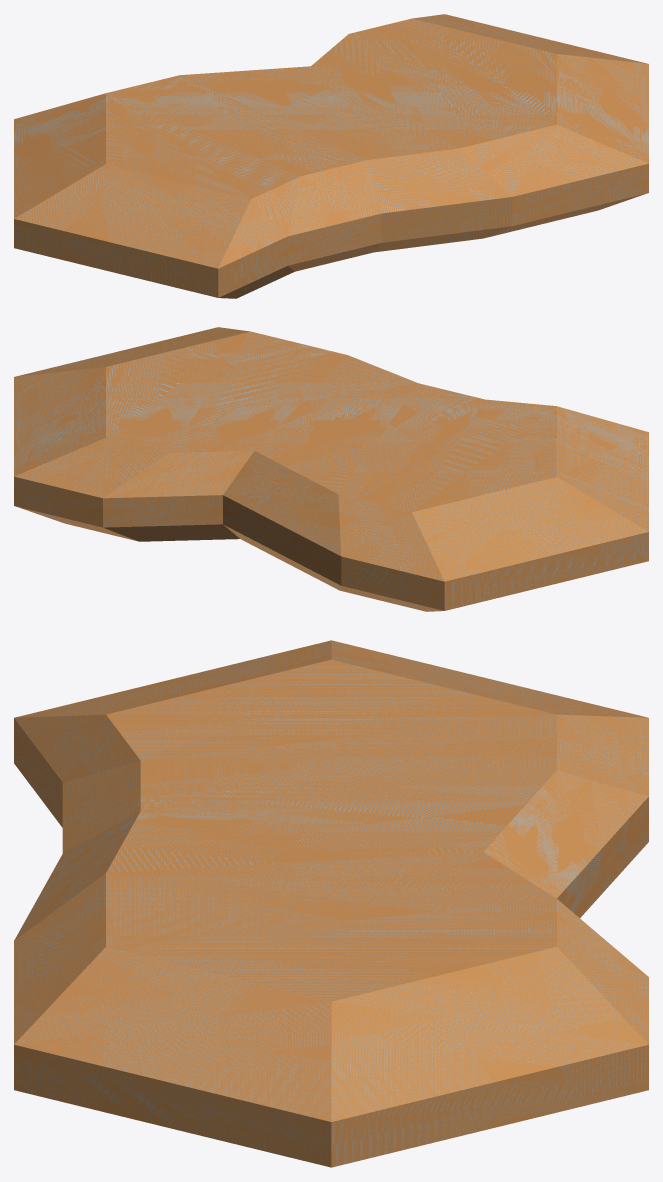
File: Rock_Large_Flat_Dirt_01.fbx
3 renders of one model, top to bottom at view 1: azimuth 30°, elevation 25°; view 2: azimuth 150°, elevation 25°; view 3: azimuth 270°, elevation 25°, orthographic. The views are drawn at different scales.
Visible parts, largest first — view 1: Model; view 2: Model; view 3: Model.
Part boxes in pixels (bbox=[...]): Model: bbox=[14, 14, 648, 298]; Model: bbox=[14, 327, 648, 611]; Model: bbox=[14, 640, 648, 1167].
Size of the model in its own units: 823 by 103 by 458.
